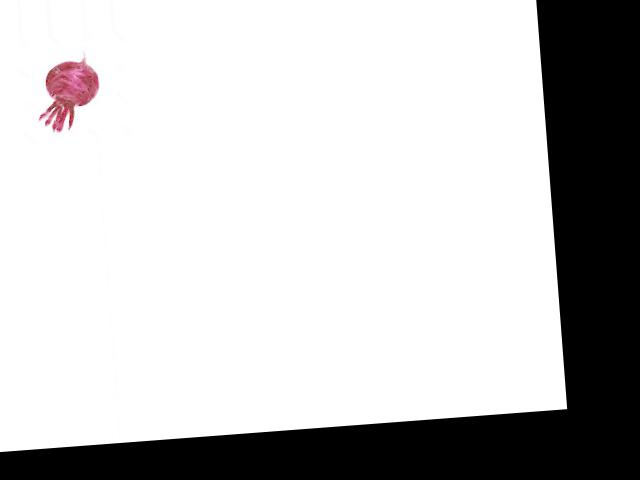beet: (34, 49, 103, 133)
